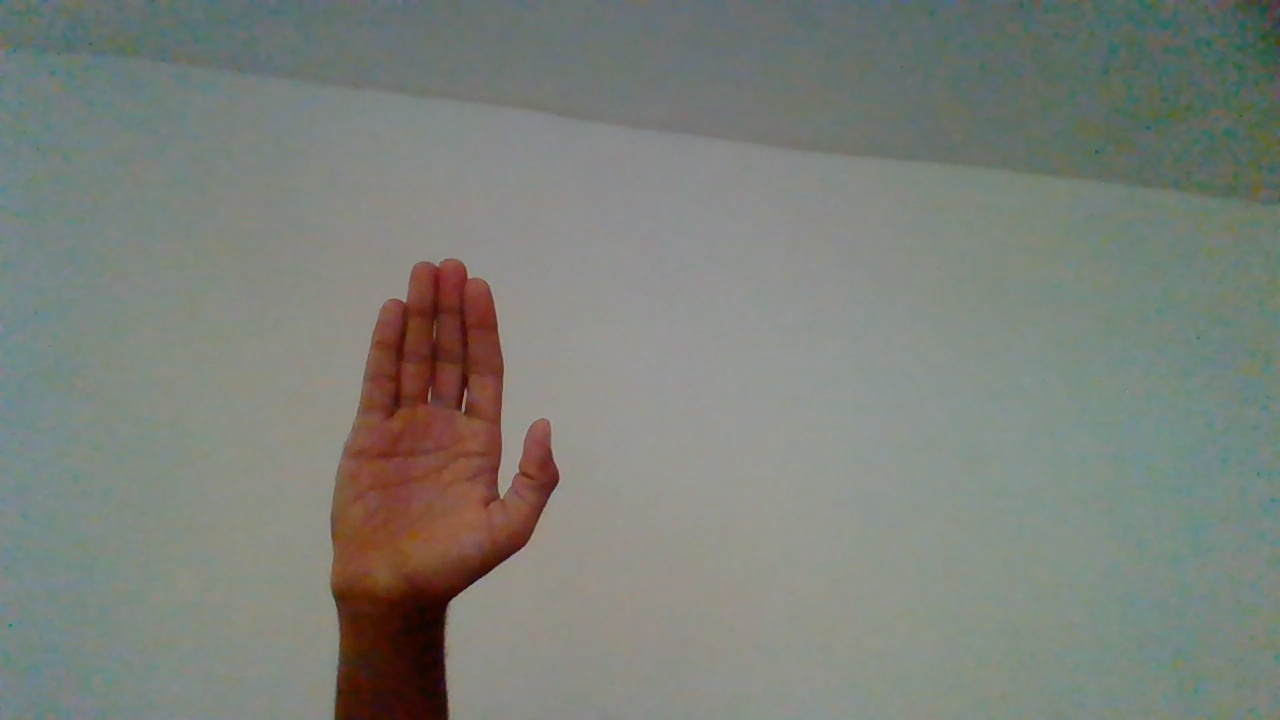ha: (327, 259, 565, 692)
